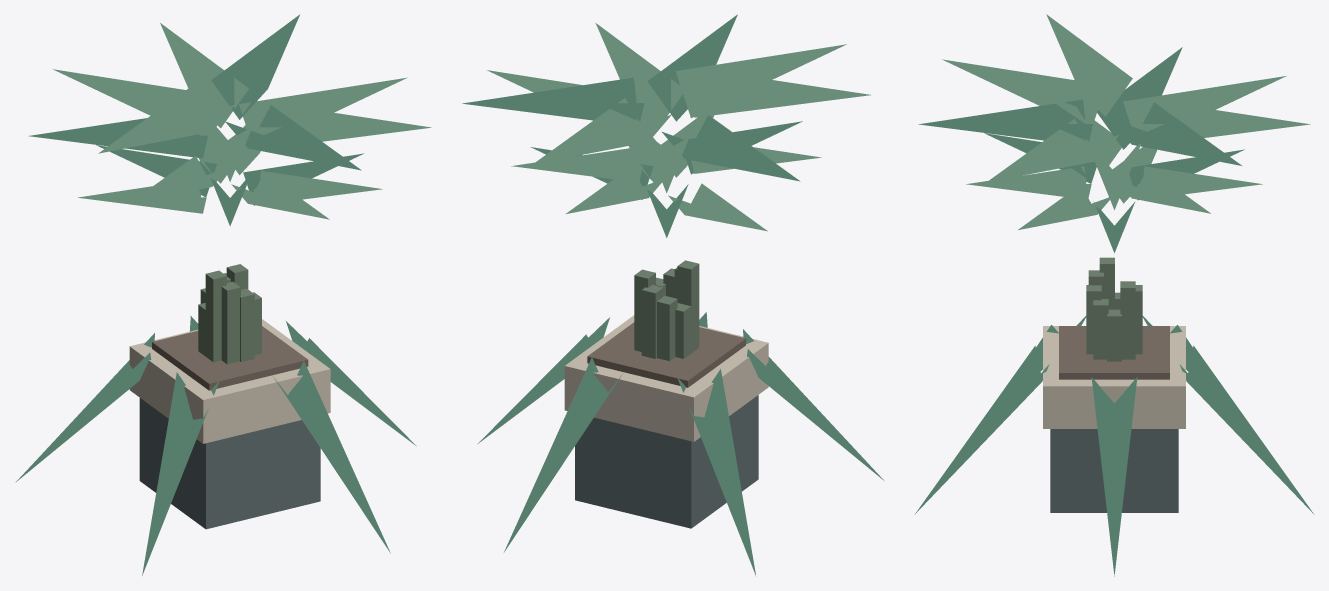
3 renders of one model, left to right at view 1: azimuth 30°, elevation 25°; view 2: azimuth 150°, elevation 25°; view 3: azimuth 270°, elevation 25°, orthographic. The views are drawn at different scales.
Parts seen in each view (by area): view 1: RG-GAME-02-INDOOR-GREENERY-V16__STANDALONE_PL09__ASSET_1F_le (×2), RG-GAME-02-INDOOR-GREENERY-V16__STANDALONE_PL09__ASSET_1F_bl, RG-GAME-02-INDOOR-GREENERY-V16__STANDALONE_PL09__ASSET_1F_ri, RG-GAME-02-INDOOR-GREENERY-V16__STANDALONE_PL09__ASSET_1F_st, RG-GAME-02-INDOOR-GREENERY-V16__STANDALONE_PL09__ASSET_1F_so; view 2: RG-GAME-02-INDOOR-GREENERY-V16__STANDALONE_PL09__ASSET_1F_le (×2), RG-GAME-02-INDOOR-GREENERY-V16__STANDALONE_PL09__ASSET_1F_bl, RG-GAME-02-INDOOR-GREENERY-V16__STANDALONE_PL09__ASSET_1F_ri, RG-GAME-02-INDOOR-GREENERY-V16__STANDALONE_PL09__ASSET_1F_st, RG-GAME-02-INDOOR-GREENERY-V16__STANDALONE_PL09__ASSET_1F_so; view 3: RG-GAME-02-INDOOR-GREENERY-V16__STANDALONE_PL09__ASSET_1F_le (×2), RG-GAME-02-INDOOR-GREENERY-V16__STANDALONE_PL09__ASSET_1F_bl, RG-GAME-02-INDOOR-GREENERY-V16__STANDALONE_PL09__ASSET_1F_ri, RG-GAME-02-INDOOR-GREENERY-V16__STANDALONE_PL09__ASSET_1F_st, RG-GAME-02-INDOOR-GREENERY-V16__STANDALONE_PL09__ASSET_1F_so.
Part boxes in pixels (x1,y1,x2,y2): RG-GAME-02-INDOOR-GREENERY-V16__STANDALONE_PL09__ASSET_1F_le (×2): (15, 14, 431, 575); RG-GAME-02-INDOOR-GREENERY-V16__STANDALONE_PL09__ASSET_1F_bl: (139, 398, 320, 529); RG-GAME-02-INDOOR-GREENERY-V16__STANDALONE_PL09__ASSET_1F_ri: (129, 319, 330, 443); RG-GAME-02-INDOOR-GREENERY-V16__STANDALONE_PL09__ASSET_1F_st: (198, 264, 261, 364); RG-GAME-02-INDOOR-GREENERY-V16__STANDALONE_PL09__ASSET_1F_so: (152, 326, 308, 390); RG-GAME-02-INDOOR-GREENERY-V16__STANDALONE_PL09__ASSET_1F_le (×2): (462, 14, 883, 576); RG-GAME-02-INDOOR-GREENERY-V16__STANDALONE_PL09__ASSET_1F_bl: (575, 395, 758, 528); RG-GAME-02-INDOOR-GREENERY-V16__STANDALONE_PL09__ASSET_1F_ri: (564, 315, 768, 441); RG-GAME-02-INDOOR-GREENERY-V16__STANDALONE_PL09__ASSET_1F_st: (634, 260, 699, 360); RG-GAME-02-INDOOR-GREENERY-V16__STANDALONE_PL09__ASSET_1F_so: (587, 322, 745, 387); RG-GAME-02-INDOOR-GREENERY-V16__STANDALONE_PL09__ASSET_1F_le (×2): (914, 14, 1314, 576); RG-GAME-02-INDOOR-GREENERY-V16__STANDALONE_PL09__ASSET_1F_bl: (1050, 429, 1178, 512); RG-GAME-02-INDOOR-GREENERY-V16__STANDALONE_PL09__ASSET_1F_ri: (1043, 326, 1185, 428); RG-GAME-02-INDOOR-GREENERY-V16__STANDALONE_PL09__ASSET_1F_st: (1086, 257, 1142, 361); RG-GAME-02-INDOOR-GREENERY-V16__STANDALONE_PL09__ASSET_1F_so: (1059, 326, 1169, 379).
Bounding box in the file's own units: 0.6783 × 0.7411 × 0.6825.
